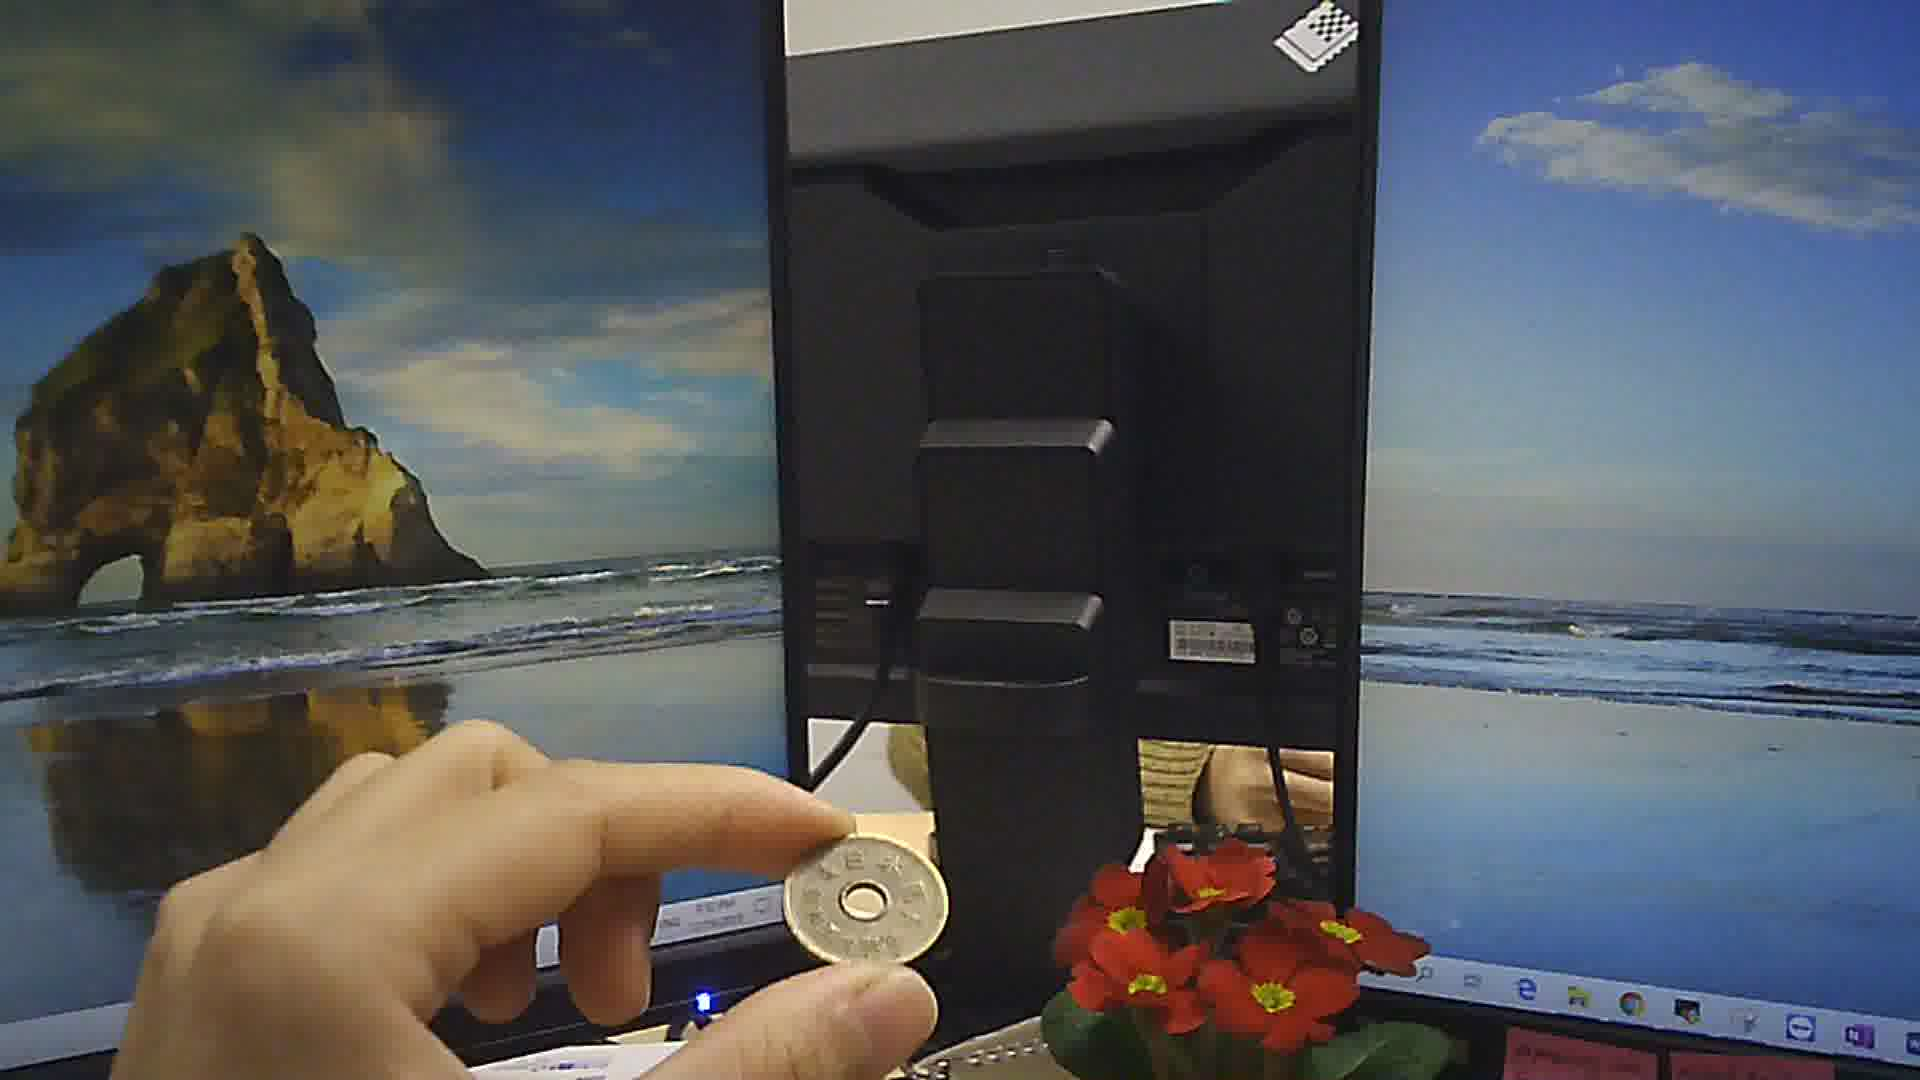5 Yen: (782, 832, 949, 967)
